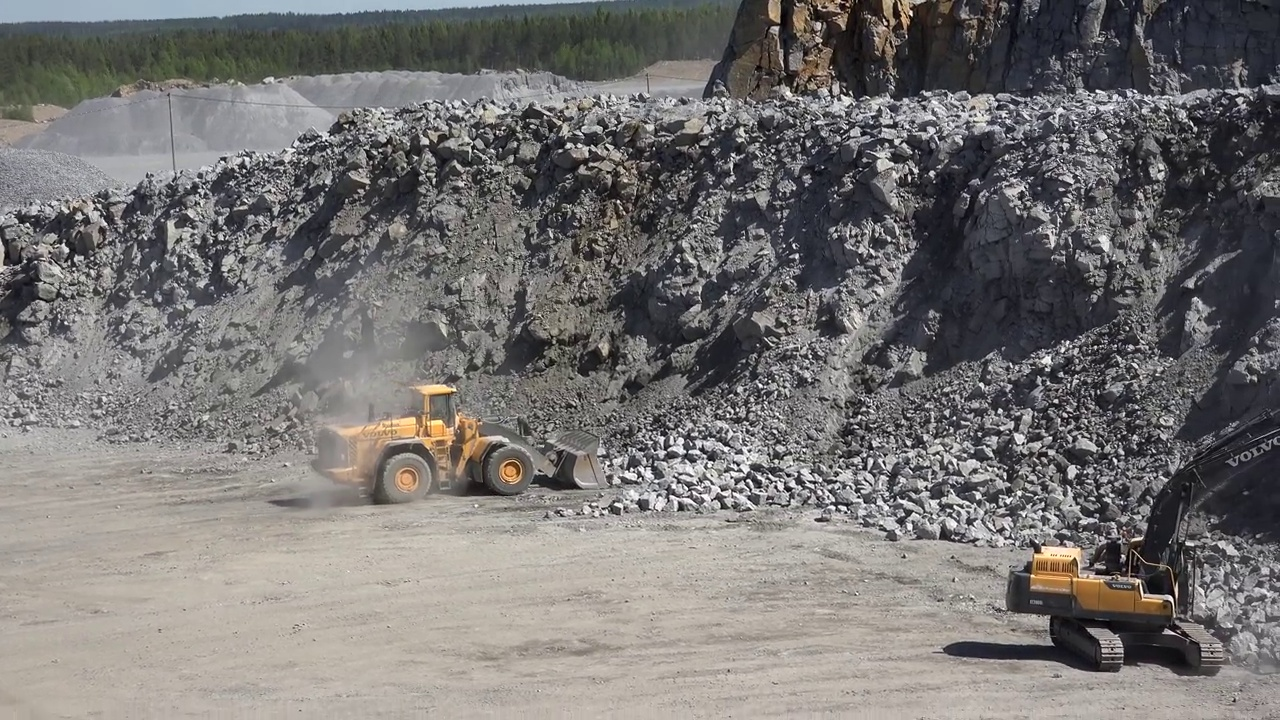excavator: (1004, 418, 1280, 679)
wheel loader: (309, 386, 608, 506)
